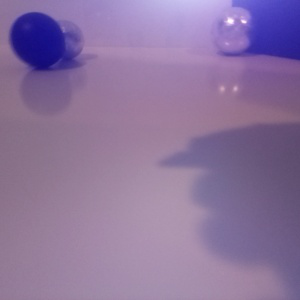alive_ball: (210, 6, 256, 56), (45, 20, 84, 61)
dead_ball: (10, 12, 65, 68)
